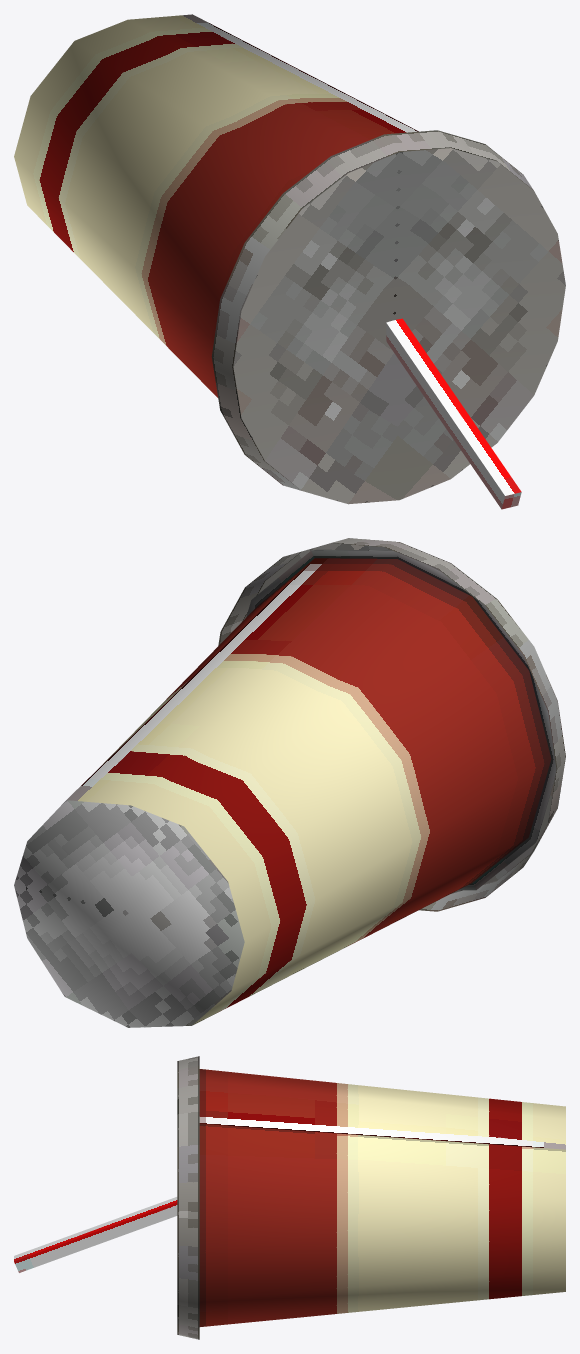
File: ma_cup_single_closed_static_LOD0.obj
3 renders of one model, top to bottom at view 1: azimuth 30°, elevation 25°; view 2: azimuth 150°, elevation 25°; view 3: azimuth 270°, elevation 25°, orthographic. The views are drawn at different scales.
Parts seen in each view (by area): view 1: mtl_cups; view 2: mtl_cups; view 3: mtl_cups.
Boxes of the visible parts, x1=… form: mtl_cups: x1=14, y1=14, x2=565, y2=509; mtl_cups: x1=14, y1=538, x2=565, y2=1027; mtl_cups: x1=14, y1=1056, x2=565, y2=1339.
Size of the model in its own units: 10.24 by 10.24 by 19.77.
